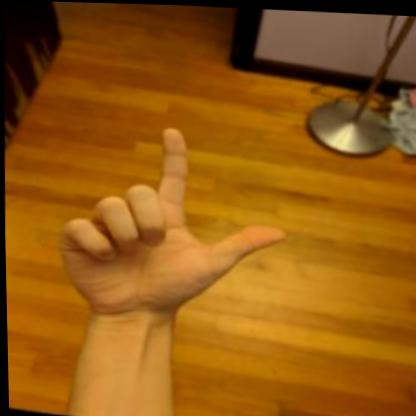L: (42, 107, 308, 343)
